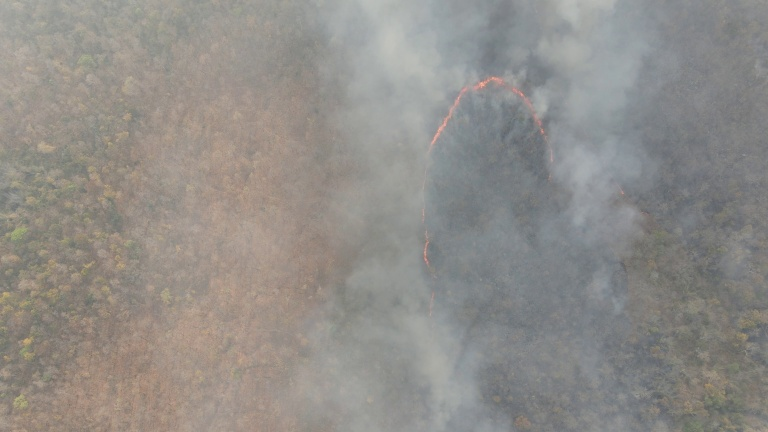fire: (424, 69, 568, 169), (419, 100, 461, 322)
smoke: (341, 213, 523, 428), (544, 1, 662, 288), (327, 2, 479, 200)
